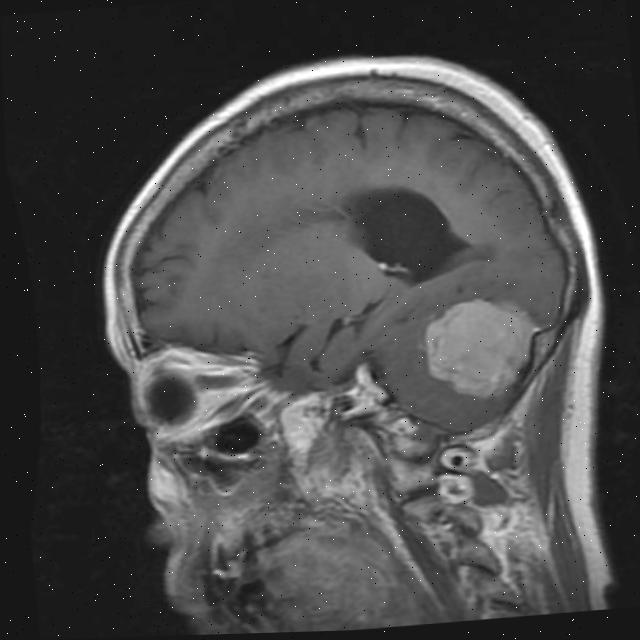Meningioma: (417, 290, 547, 407)
